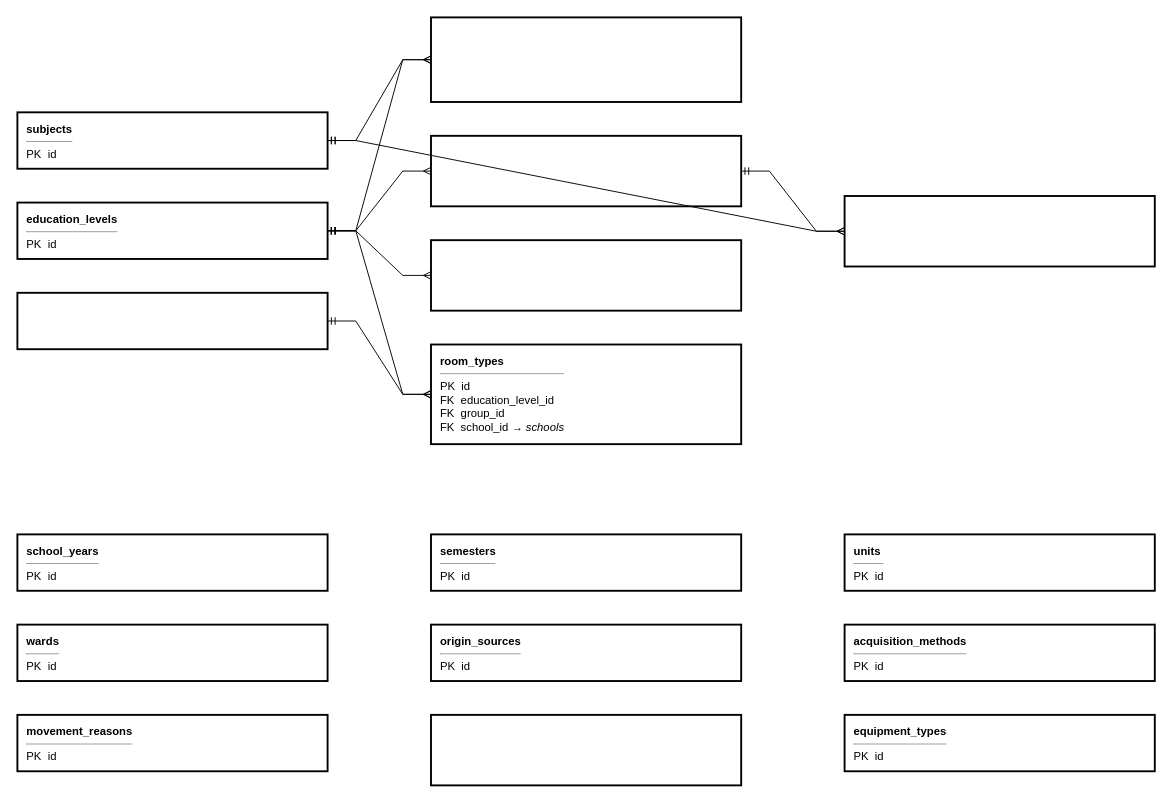
The diagram is 1171 pixels wide and 802 high, and some of its shapes have lost their labels. The centre of each missing label's shape, as x and y in pixels:
"facility_groups PK id" goes at pixel 172 320.
"grades PK id FK education_level_id" goes at pixel 586 275.
"legal_documents PK id FK replaces_id" goes at pixel 586 749.
"subject_education_levels PK id FK subject_id FK education_level_id" goes at pixel 586 59.
"subject_group_subjects PK subject_group_id PK subject_id" goes at pixel 999 231.
"subject_groups PK id FK education_level_id" goes at pixel 586 170.
